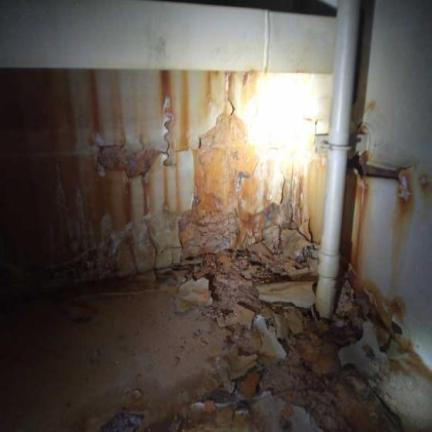karat: (175, 104, 409, 428), (180, 212, 247, 257)
